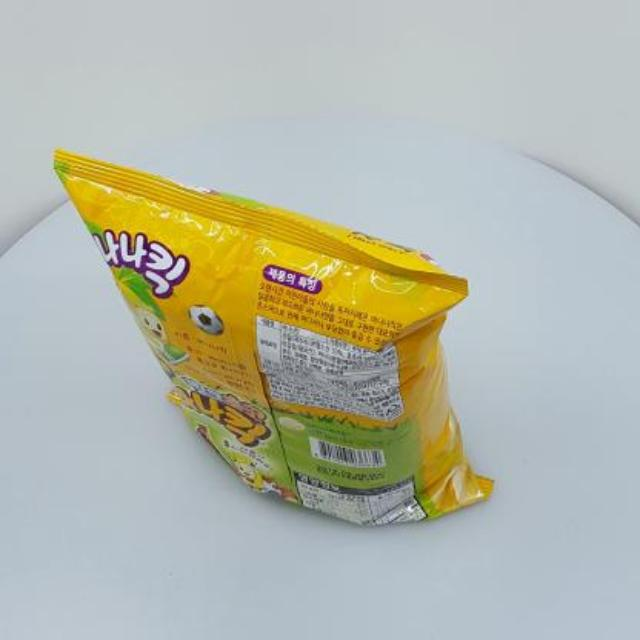snack_bag: (48, 136, 516, 536)
